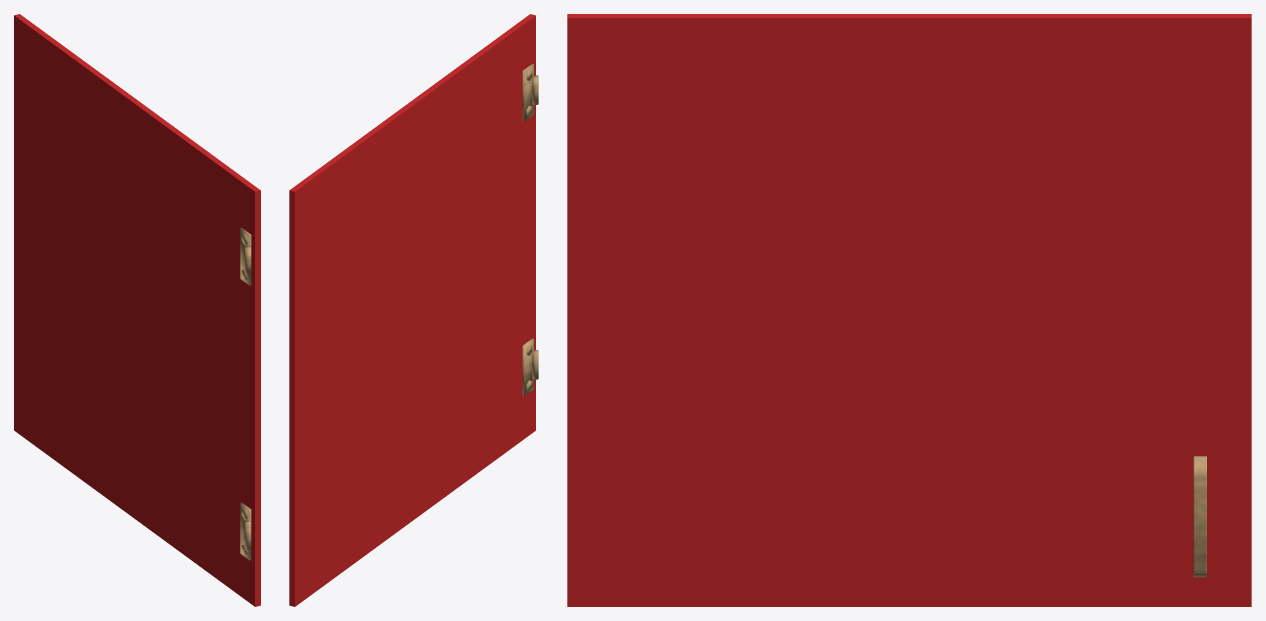
Rendered from MOD_FUR_Kitchen_cabinet_door_01.fbx.
3 views of the same model, side by side, from view 1: azimuth 30°, elevation 25°; view 2: azimuth 150°, elevation 25°; view 3: azimuth 270°, elevation 25° (orthographic). The views are drawn at different scales.
Parts seen in each view (by area): view 1: HSHP_MOD_Kitchen_cabinet_door_01; view 2: HSHP_MOD_Kitchen_cabinet_door_01; view 3: HSHP_MOD_Kitchen_cabinet_door_01.
Boxes of the visible parts, x1,y1,x2,y2 form: HSHP_MOD_Kitchen_cabinet_door_01: (14, 14, 260, 606); HSHP_MOD_Kitchen_cabinet_door_01: (289, 14, 538, 606); HSHP_MOD_Kitchen_cabinet_door_01: (567, 14, 1251, 606).
Size of the model in its own units: 0.0456 by 0.7 by 0.7368.
